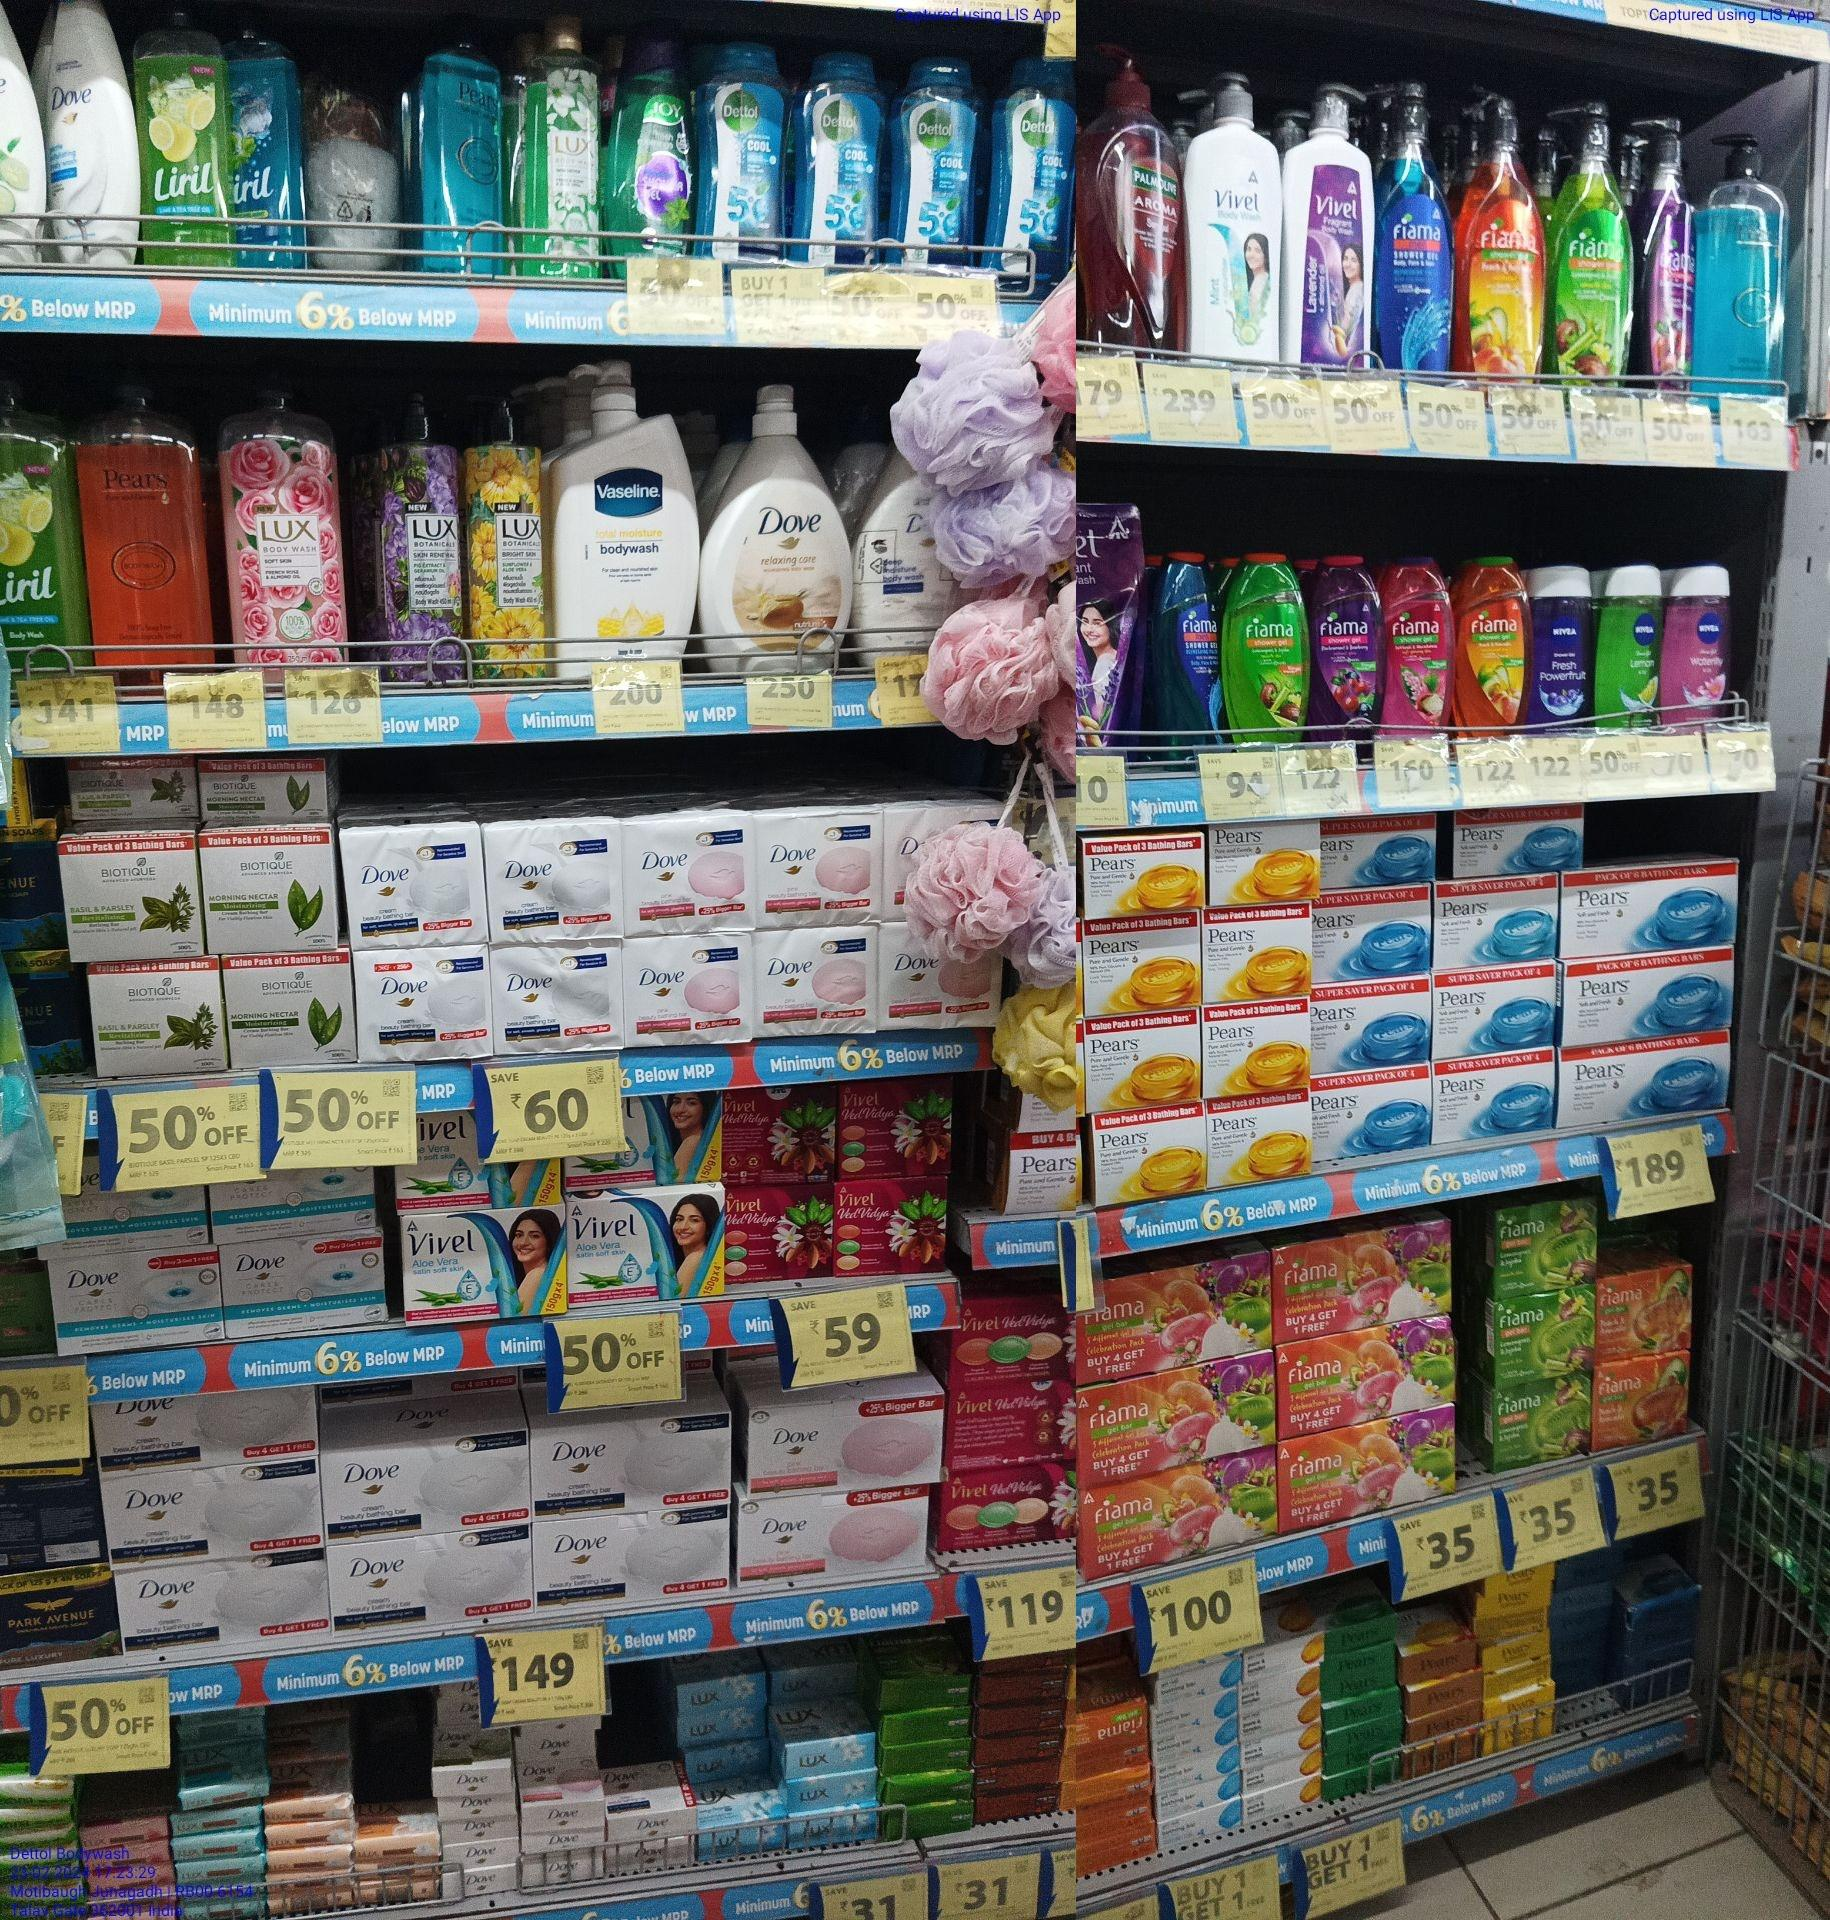Dettol_Bodywash_Cool: (788, 55, 884, 262), (701, 45, 790, 264), (982, 74, 1073, 278), (889, 58, 975, 266)
Fiama_Shower_Gel_Lemongrass_and_Jojoba_250ML: (1223, 557, 1307, 746)
Fiama_Shower_Gel_Patchouli_and_Macadamia_250ML: (1378, 564, 1451, 734)
Fiama_Shower_Gel_Peach_and_Avocado_250ML: (1455, 559, 1528, 737)
Joy_Shower_Gel_Mint_and_Eucalyptus_250ML: (612, 36, 694, 264)
Liril_Lime_and_Tea_Tree_Oil_Body_Wash_250ML: (132, 15, 238, 269)
Lux_Body_Wash_Skin_Detox_Freesia_Scent_and_Alove_Vera_245ML: (516, 14, 600, 285)
Nivea_Shower_Gel_Fresh_Powerfruit_250ML: (1530, 564, 1592, 730)
Nivea_Shower_Gel_Lemon_and_Oil_250ML: (1595, 562, 1660, 730)
Nivea_Shower_Gel_Waterlily_and_Oil_250ML: (1660, 567, 1727, 722)
Pears_Pure_Glycerin_and_Mint_Extracts_Body_Wash_250ML: (420, 24, 511, 283)
